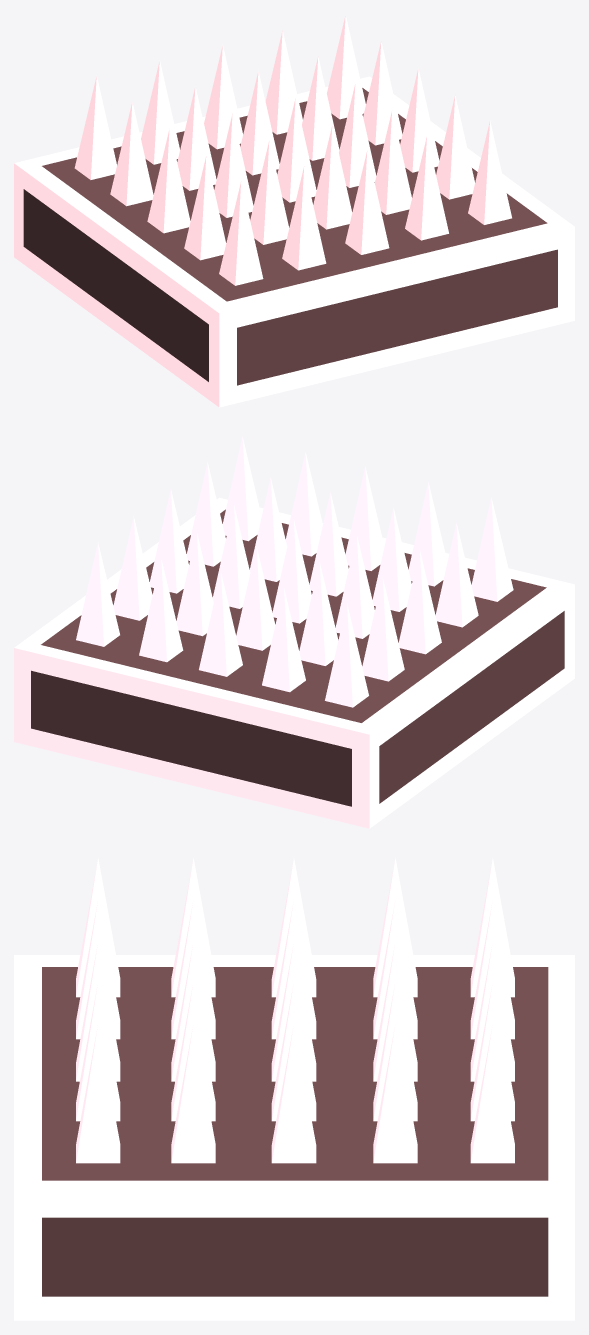
The model's file is spikes.fbx.
3 views of the same model, one above another, from view 1: azimuth 30°, elevation 25°; view 2: azimuth 150°, elevation 25°; view 3: azimuth 270°, elevation 25° (orthographic). The views are drawn at different scales.
Parts seen in each view (by area): view 1: Cube, Cube.001, Cube.003, Cube.002, Cube.004, Cube.005, Cube.020, Cube.010, Cube.011, Cube.021, Cube.024, Cube.022 (+14 smaller); view 2: Cube, Cube.011, Cube.012, Cube.013, Cube.010, Cube.014, Cube.015, Cube.021, Cube.020, Cube.001, Cube.019, Cube.018 (+14 smaller); view 3: Cube, Cube.007, Cube.017, Cube.004, Cube.014, Cube.024, Cube.006, Cube.008, Cube.010, Cube.001, Cube.005, Cube.015 (+14 smaller).
Part boxes in pixels (x1,y1,x2,y2): Cube: [14, 76, 574, 407]; Cube.001: [219, 181, 263, 285]; Cube.003: [282, 166, 326, 270]; Cube.002: [345, 151, 389, 254]; Cube.004: [468, 120, 511, 224]; Cube.005: [405, 136, 448, 240]; Cube.020: [110, 102, 153, 206]; Cube.010: [147, 129, 190, 233]; Cube.011: [74, 75, 116, 179]; Cube.021: [184, 156, 226, 260]; Cube.024: [436, 95, 474, 199]; Cube.022: [313, 125, 352, 229]; Cube: [14, 497, 574, 828]; Cube.011: [325, 603, 368, 707]; Cube.012: [199, 572, 242, 676]; Cube.013: [262, 588, 305, 692]; Cube.010: [398, 549, 441, 654]; Cube.014: [76, 542, 119, 646]; Cube.015: [139, 557, 183, 662]; Cube.021: [435, 523, 478, 627]; Cube.020: [362, 577, 404, 681]; Cube.001: [471, 497, 513, 601]; Cube.019: [236, 546, 275, 650]; Cube.018: [299, 562, 338, 665]; Cube: [14, 955, 574, 1320]; Cube.007: [271, 1024, 316, 1163]; Cube.017: [373, 1023, 417, 1163]; Cube.004: [76, 1024, 120, 1163]; Cube.014: [470, 1023, 514, 1163]; Cube.024: [171, 1024, 215, 1163]; Cube.006: [271, 982, 316, 1121]; Cube.008: [271, 900, 316, 1039]; Cube.010: [271, 858, 316, 997]; Cube.001: [76, 858, 120, 997]; Cube.005: [76, 982, 120, 1121]; Cube.015: [470, 981, 514, 1121].
Bounding box in the file's own units: 1400 × 720 × 1400.
